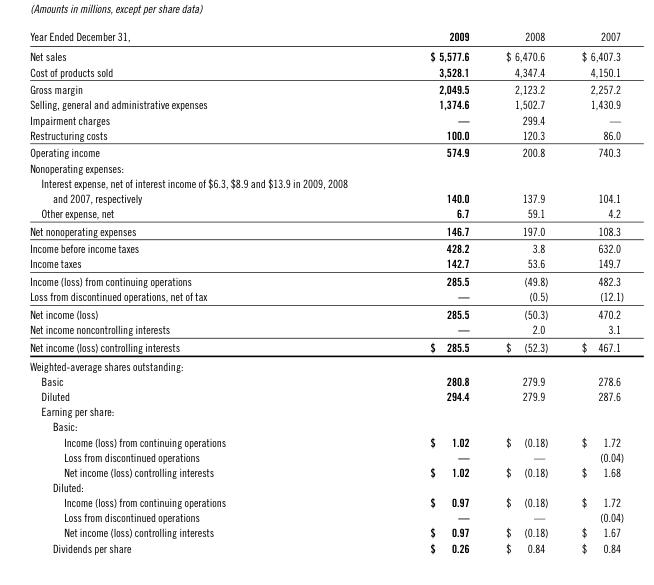table: (29, 29, 623, 554)
table column: (29, 29, 388, 554), (388, 29, 486, 554), (486, 29, 564, 554), (564, 29, 623, 554)
table column header: (29, 29, 623, 46)
table projected row header: (29, 356, 623, 373), (29, 159, 623, 174), (29, 403, 623, 418), (29, 418, 623, 433), (29, 479, 623, 494)
table row: (29, 174, 623, 205), (29, 337, 623, 356), (29, 221, 623, 239), (29, 29, 623, 46), (29, 46, 623, 63), (29, 63, 623, 80), (29, 126, 623, 143), (29, 255, 623, 272), (29, 288, 623, 305), (29, 356, 623, 373), (29, 80, 623, 96), (29, 143, 623, 159), (29, 205, 623, 221), (29, 239, 623, 255), (29, 272, 623, 288), (29, 305, 623, 321), (29, 321, 623, 337), (29, 448, 623, 464), (29, 96, 623, 111), (29, 111, 623, 126), (29, 159, 623, 174), (29, 373, 623, 388), (29, 388, 623, 403), (29, 403, 623, 418), (29, 418, 623, 433), (29, 433, 623, 448), (29, 464, 623, 479), (29, 479, 623, 494), (29, 494, 623, 509), (29, 509, 623, 524), (29, 524, 623, 539), (29, 539, 623, 554)
